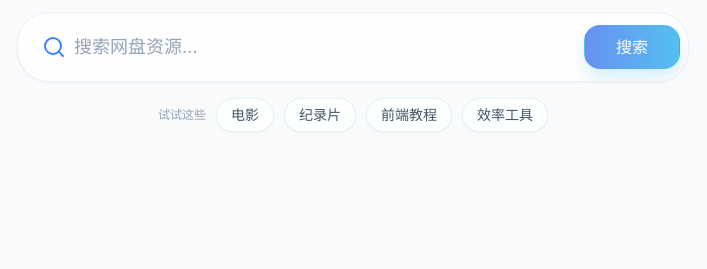
SearchBox › clears history and closes the panel
Click the field with placeholder "搜索网盘资源..." at (353, 47), box [18, 13, 688, 81]
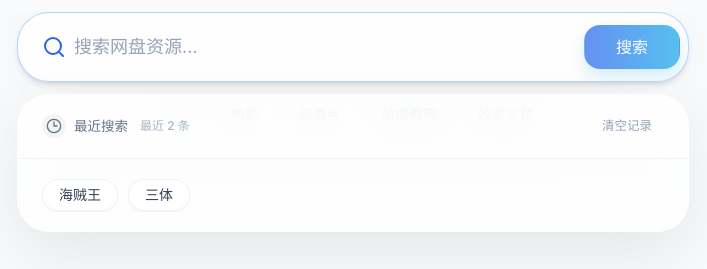
Click the button "清空记录" at (627, 126), box [590, 111, 664, 142]
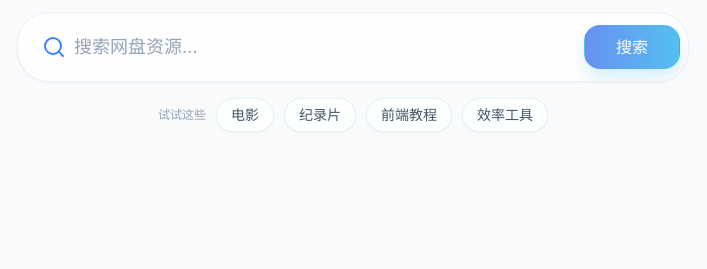
Result: the text "最近搜索" is gone
